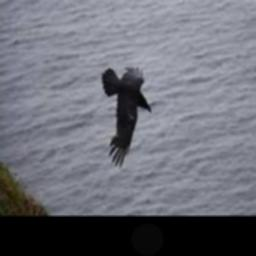Crow: (102, 64, 152, 168)
